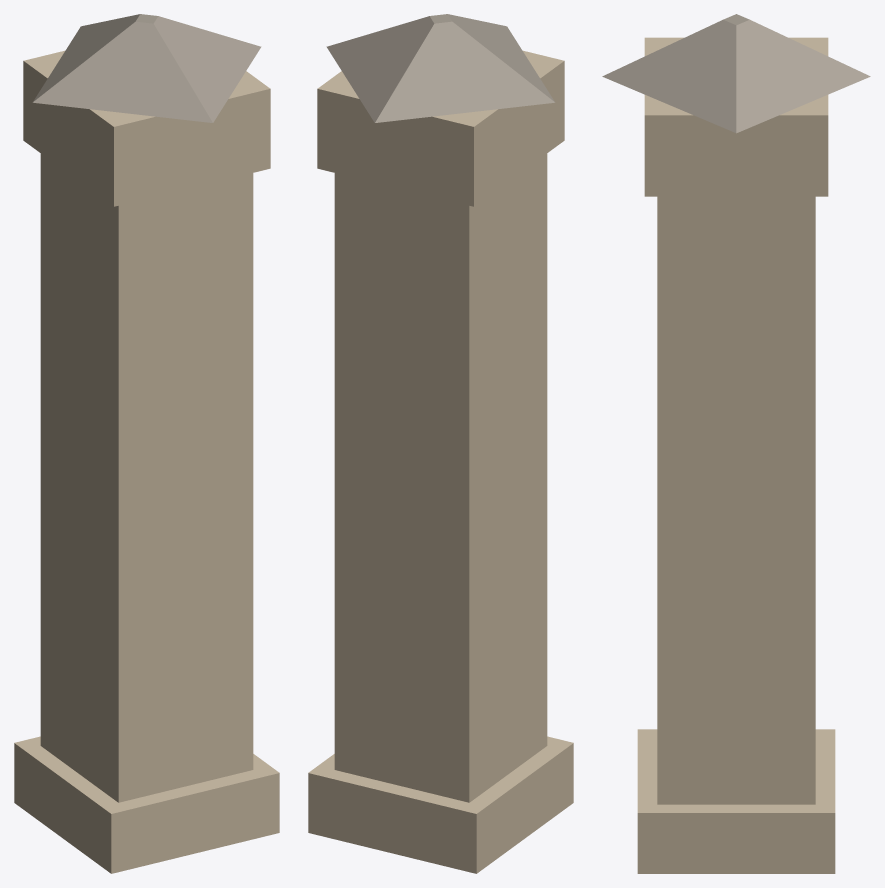
File: stone_wall_corner_pillar.fbx
The picture shows the model from 3 angles, left to right: view 1: azimuth 30°, elevation 25°; view 2: azimuth 150°, elevation 25°; view 3: azimuth 270°, elevation 25°; orthographic projection.
Visible parts, largest first — view 1: stone_wall_corner_pillar; view 2: stone_wall_corner_pillar; view 3: stone_wall_corner_pillar.
Part boxes in pixels (x1,y1,x2,y2): stone_wall_corner_pillar: (14,14,279,873); stone_wall_corner_pillar: (308,14,573,873); stone_wall_corner_pillar: (602,14,870,873).
Bounding box in the file's own units: 1.2 × 4 × 1.2.
